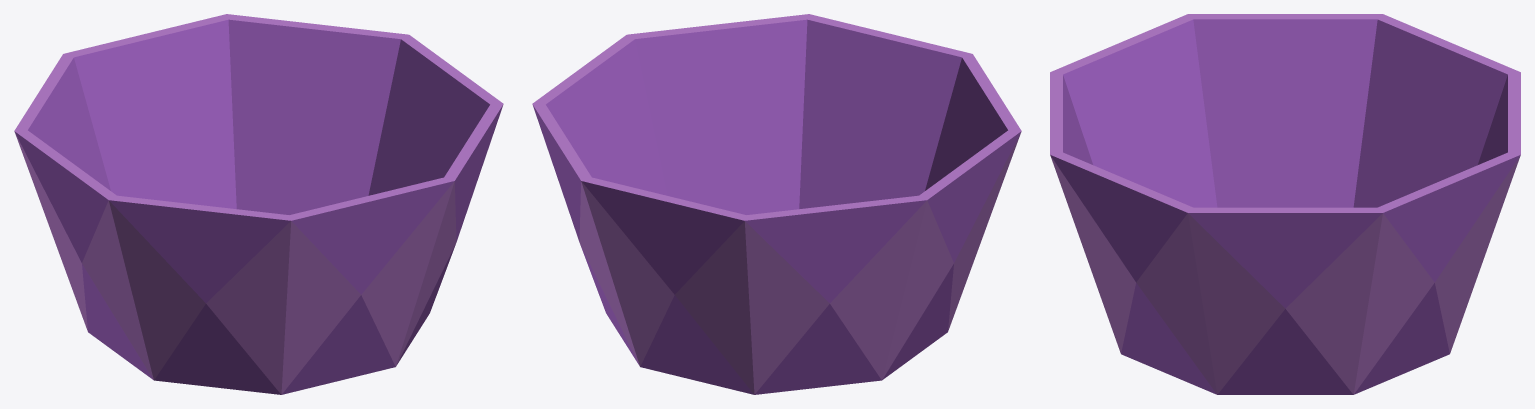
3 renders of one model, left to right at view 1: azimuth 30°, elevation 25°; view 2: azimuth 150°, elevation 25°; view 3: azimuth 270°, elevation 25°, orthographic. The views are drawn at different scales.
Parts seen in each view (by area): view 1: 空心八角折纸吊篮.001; view 2: 空心八角折纸吊篮.001; view 3: 空心八角折纸吊篮.001.
Boxes of the visible parts, left/top/right/bottom form: 空心八角折纸吊篮.001: left=14, top=14, right=503, bottom=394; 空心八角折纸吊篮.001: left=532, top=14, right=1021, bottom=394; 空心八角折纸吊篮.001: left=1050, top=14, right=1520, bottom=394.
Size of the model in its own units: 0.4047 by 0.201 by 0.4047.
